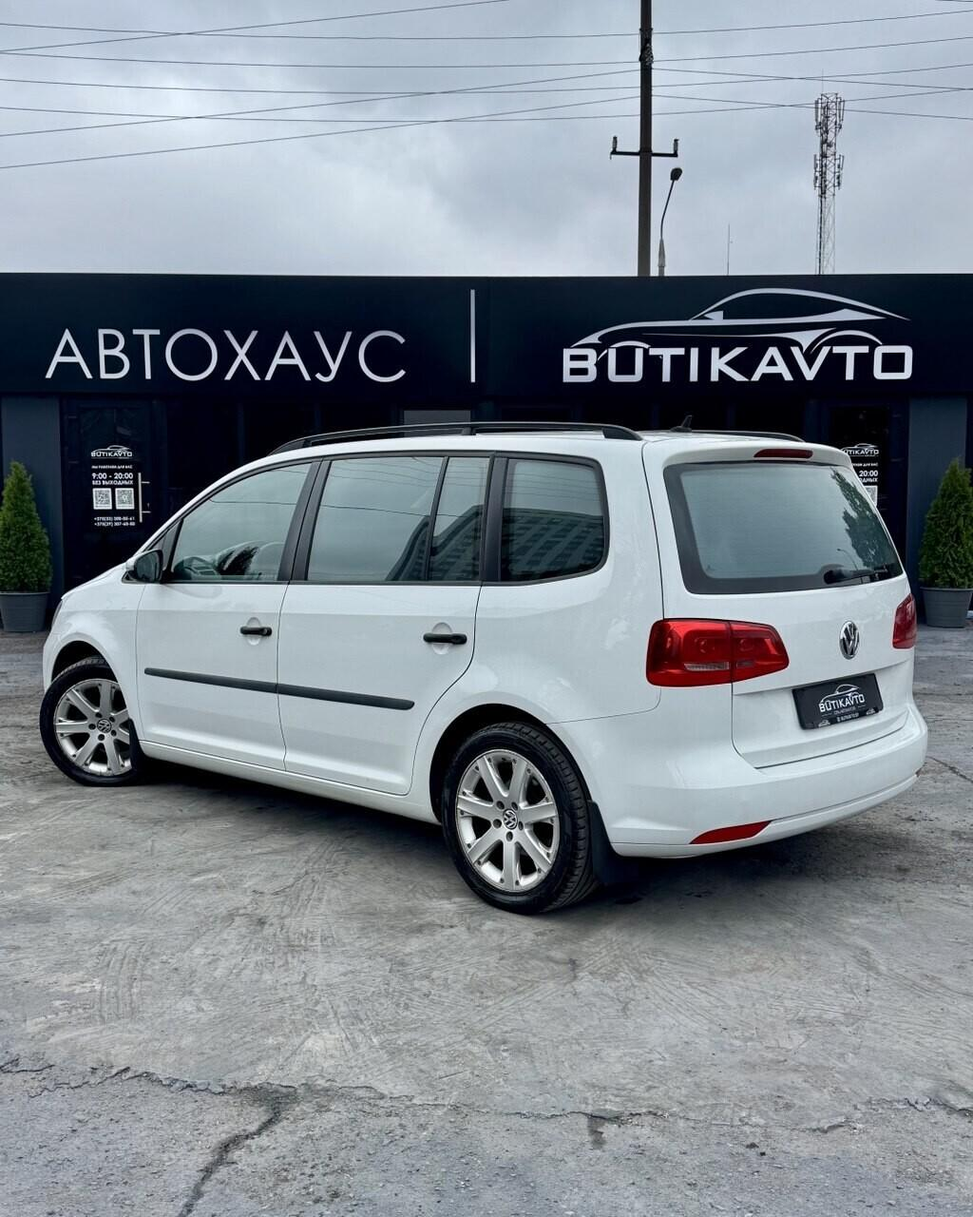Touran_2010-2015: (30, 422, 938, 903)
